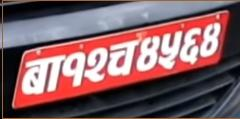1: (62, 52, 84, 90)
2: (83, 46, 108, 83)
4: (136, 34, 160, 73), (200, 21, 222, 59)
5: (160, 30, 181, 71)
6: (180, 24, 203, 66)
ba: (20, 54, 64, 96)
cha: (108, 38, 139, 79)
